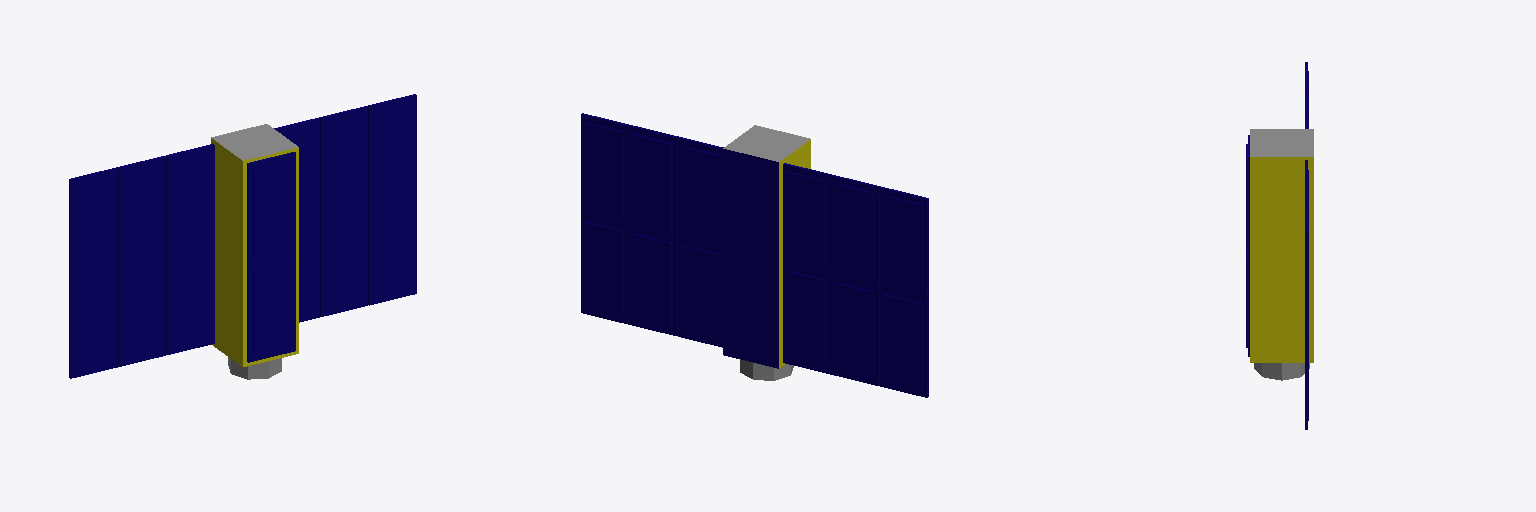
The model's file is flock.obj.
3 views of the same model, side by side, from view 1: azimuth 30°, elevation 25°; view 2: azimuth 150°, elevation 25°; view 3: azimuth 270°, elevation 25° (orthographic).
Visible parts, largest first — view 1: Cube.039, Cube.007, Cube.036, Cube.017, Cube.030, Cube.005, Cube.022, Cube.031, Cube.032, Cube.033, Cylinder.000; view 2: Cube.005, Cube.035, Cube.009, Cube.034, Cube.037, Cube.006, Cube.038, Cube.012, Cube.014, Cube.018, Cube.021, Cube.023 (+8 smaller); view 3: Cube.005, Cylinder.000, Cube.039.
Boxes of the visible parts, x1=… form: Cube.039: x1=368, y1=94, x2=416, y2=305; Cube.007: x1=166, y1=144, x2=214, y2=354; Cube.036: x1=69, y1=167, x2=117, y2=378; Cube.017: x1=117, y1=156, x2=165, y2=366; Cube.030: x1=319, y1=106, x2=367, y2=316; Cube.005: x1=211, y1=124, x2=298, y2=366; Cube.022: x1=274, y1=118, x2=319, y2=322; Cube.031: x1=253, y1=260, x2=291, y2=355; Cube.032: x1=253, y1=161, x2=291, y2=256; Cube.033: x1=247, y1=152, x2=295, y2=362; Cylinder.000: x1=228, y1=357, x2=281, y2=379; Cube.005: x1=723, y1=125, x2=810, y2=368; Cube.035: x1=884, y1=294, x2=922, y2=389; Cube.009: x1=787, y1=271, x2=825, y2=366; Cube.034: x1=884, y1=195, x2=922, y2=290; Cube.037: x1=585, y1=222, x2=623, y2=317; Cube.006: x1=787, y1=172, x2=825, y2=267; Cube.038: x1=585, y1=123, x2=623, y2=218; Cube.012: x1=836, y1=183, x2=873, y2=278; Cube.014: x1=836, y1=282, x2=873, y2=377; Cube.018: x1=682, y1=245, x2=719, y2=340; Cube.021: x1=682, y1=146, x2=719, y2=241; Cube.023: x1=634, y1=233, x2=671, y2=328; Cube.005: x1=1250, y1=129, x2=1313, y2=362; Cylinder.000: x1=1254, y1=363, x2=1309, y2=380; Cube.039: x1=1305, y1=208, x2=1307, y2=429.
Bounding box in the file's own units: 0.9627 × 0.6002 × 0.1631.